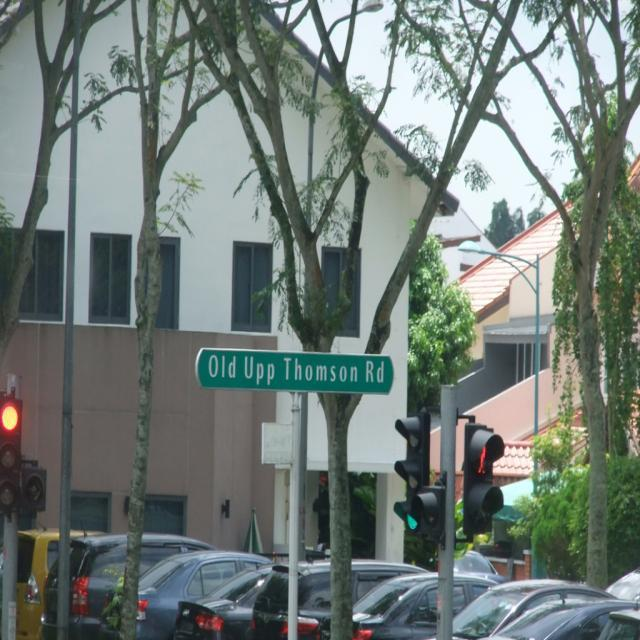traffic light: (391, 410, 445, 537), (468, 422, 502, 545)
